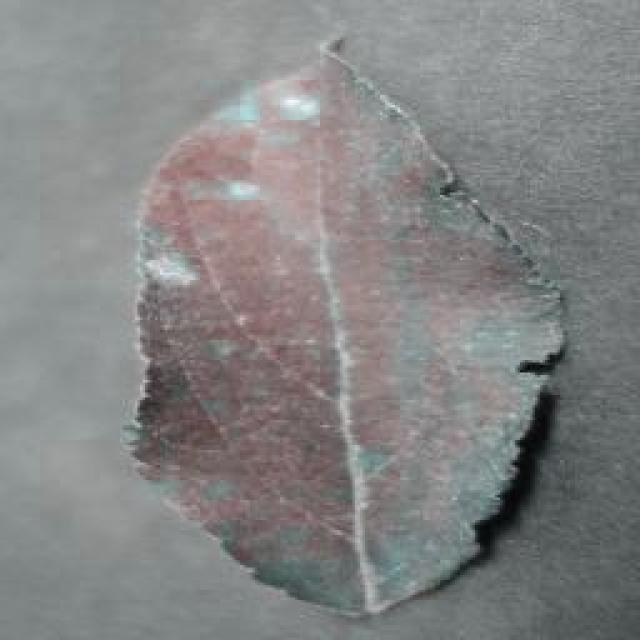apple healthy: (125, 35, 570, 617)
